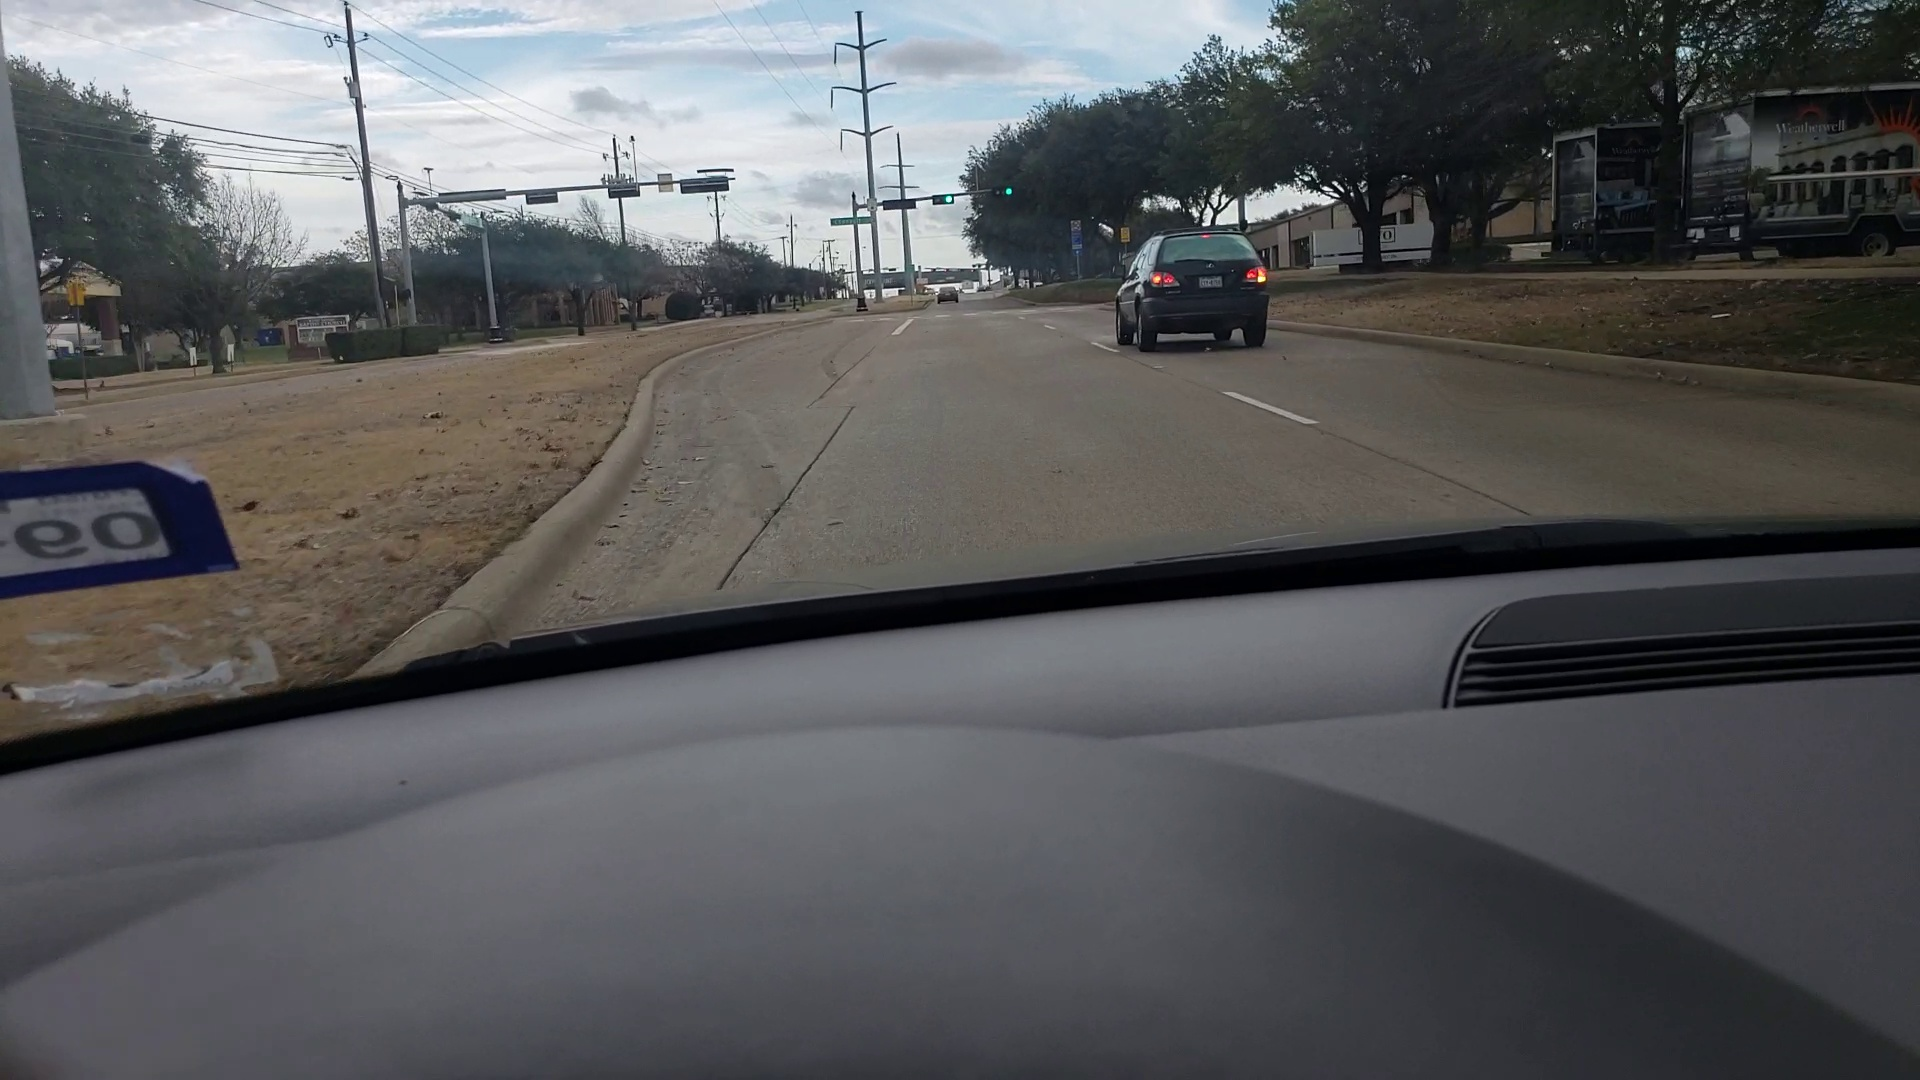car: (1108, 225, 1280, 352), (935, 285, 960, 305)
traffic light: (994, 185, 1022, 195), (931, 195, 953, 204)
